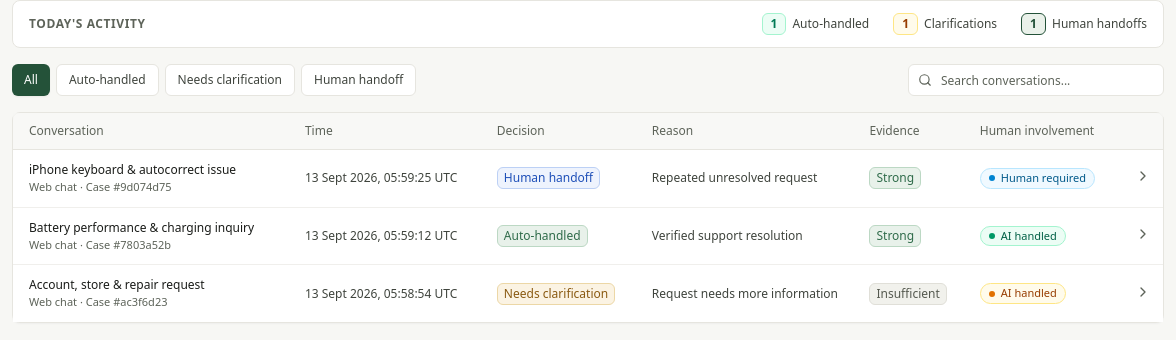
Test: AuditLogView › filters items by search input
Type "keyboard" into the field with placeholder "Search conversations...". click: (1036, 80)
box: [908, 64, 1164, 96]
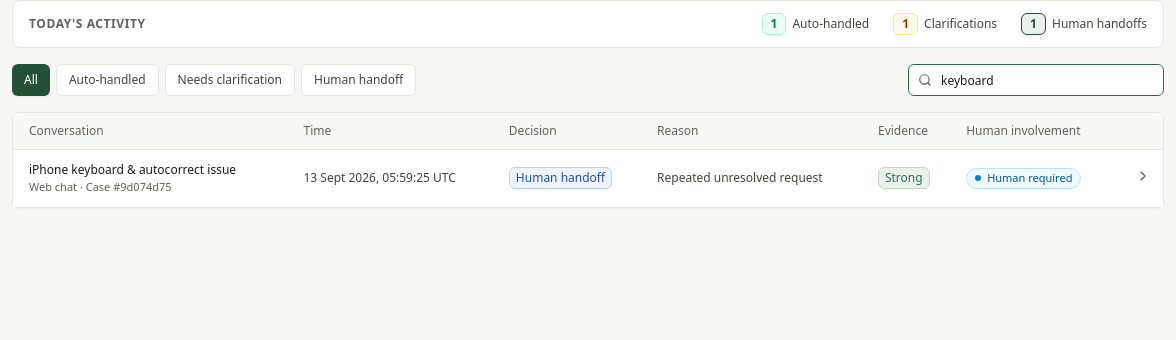
Check: the text "iPhone keyboard & autocorrect issue" is shown, box [29, 161, 236, 178]
Check: the text "Battery performance & charging inquiry" is gone
Check: the text "Account, store & repair request" is gone
